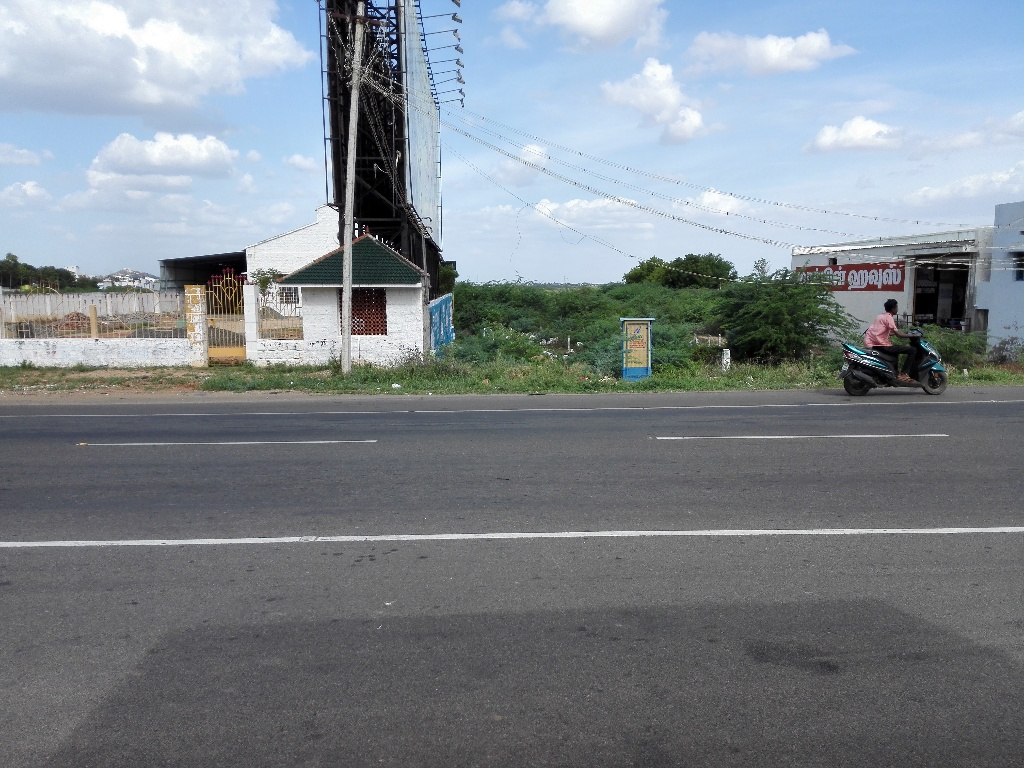biker: (830, 261, 965, 408)
nohelmet: (879, 294, 904, 329)
